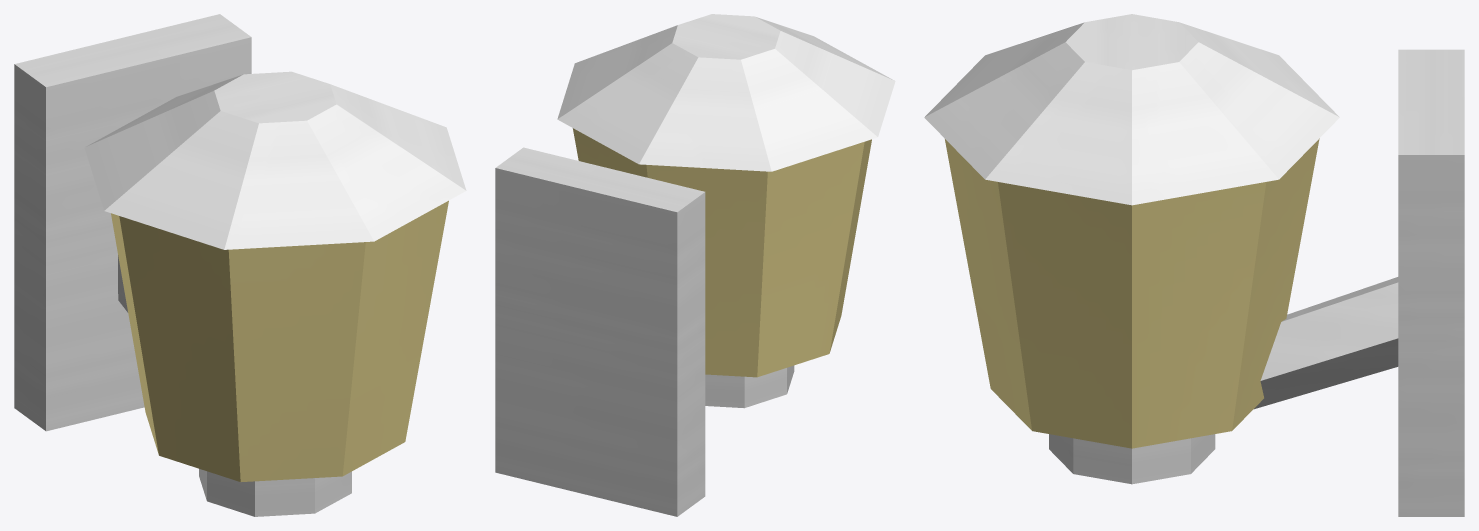
File: wall_lamp.obj
The picture shows the model from 3 angles, left to right: view 1: azimuth 30°, elevation 25°; view 2: azimuth 150°, elevation 25°; view 3: azimuth 270°, elevation 25°; orthographic projection. The views are drawn at different scales.
Visible parts, largest first — view 1: wall_lamp; view 2: wall_lamp; view 3: wall_lamp.
Boxes of the visible parts, <box> form: wall_lamp: <box>14,14,466,516</box>; wall_lamp: <box>495,14,895,516</box>; wall_lamp: <box>924,14,1464,516</box>.
Bounding box in the file's own units: 0.25 × 0.28 × 0.325.
